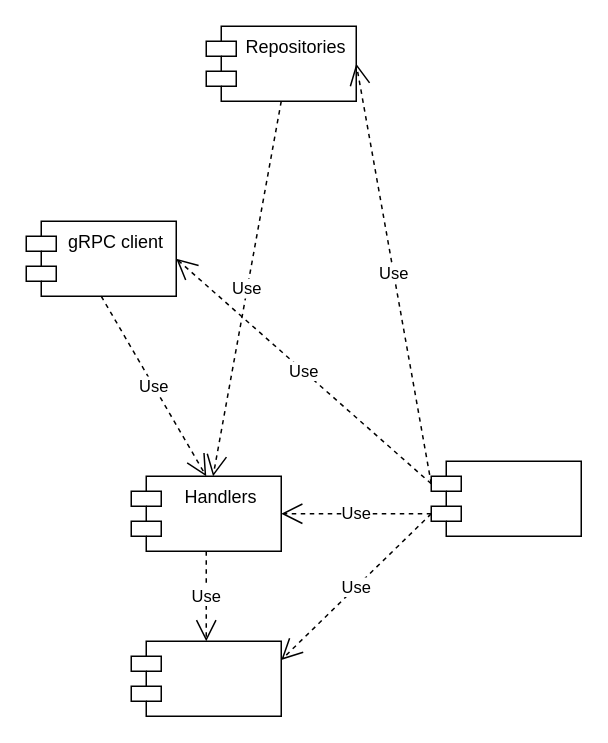
Image size: 608x743. Some labels were removed from this diagram. Each missing label, with the centre of its shape:
"Logger" goes at pixel 505 498.
"Service" goes at pixel 205 678.
